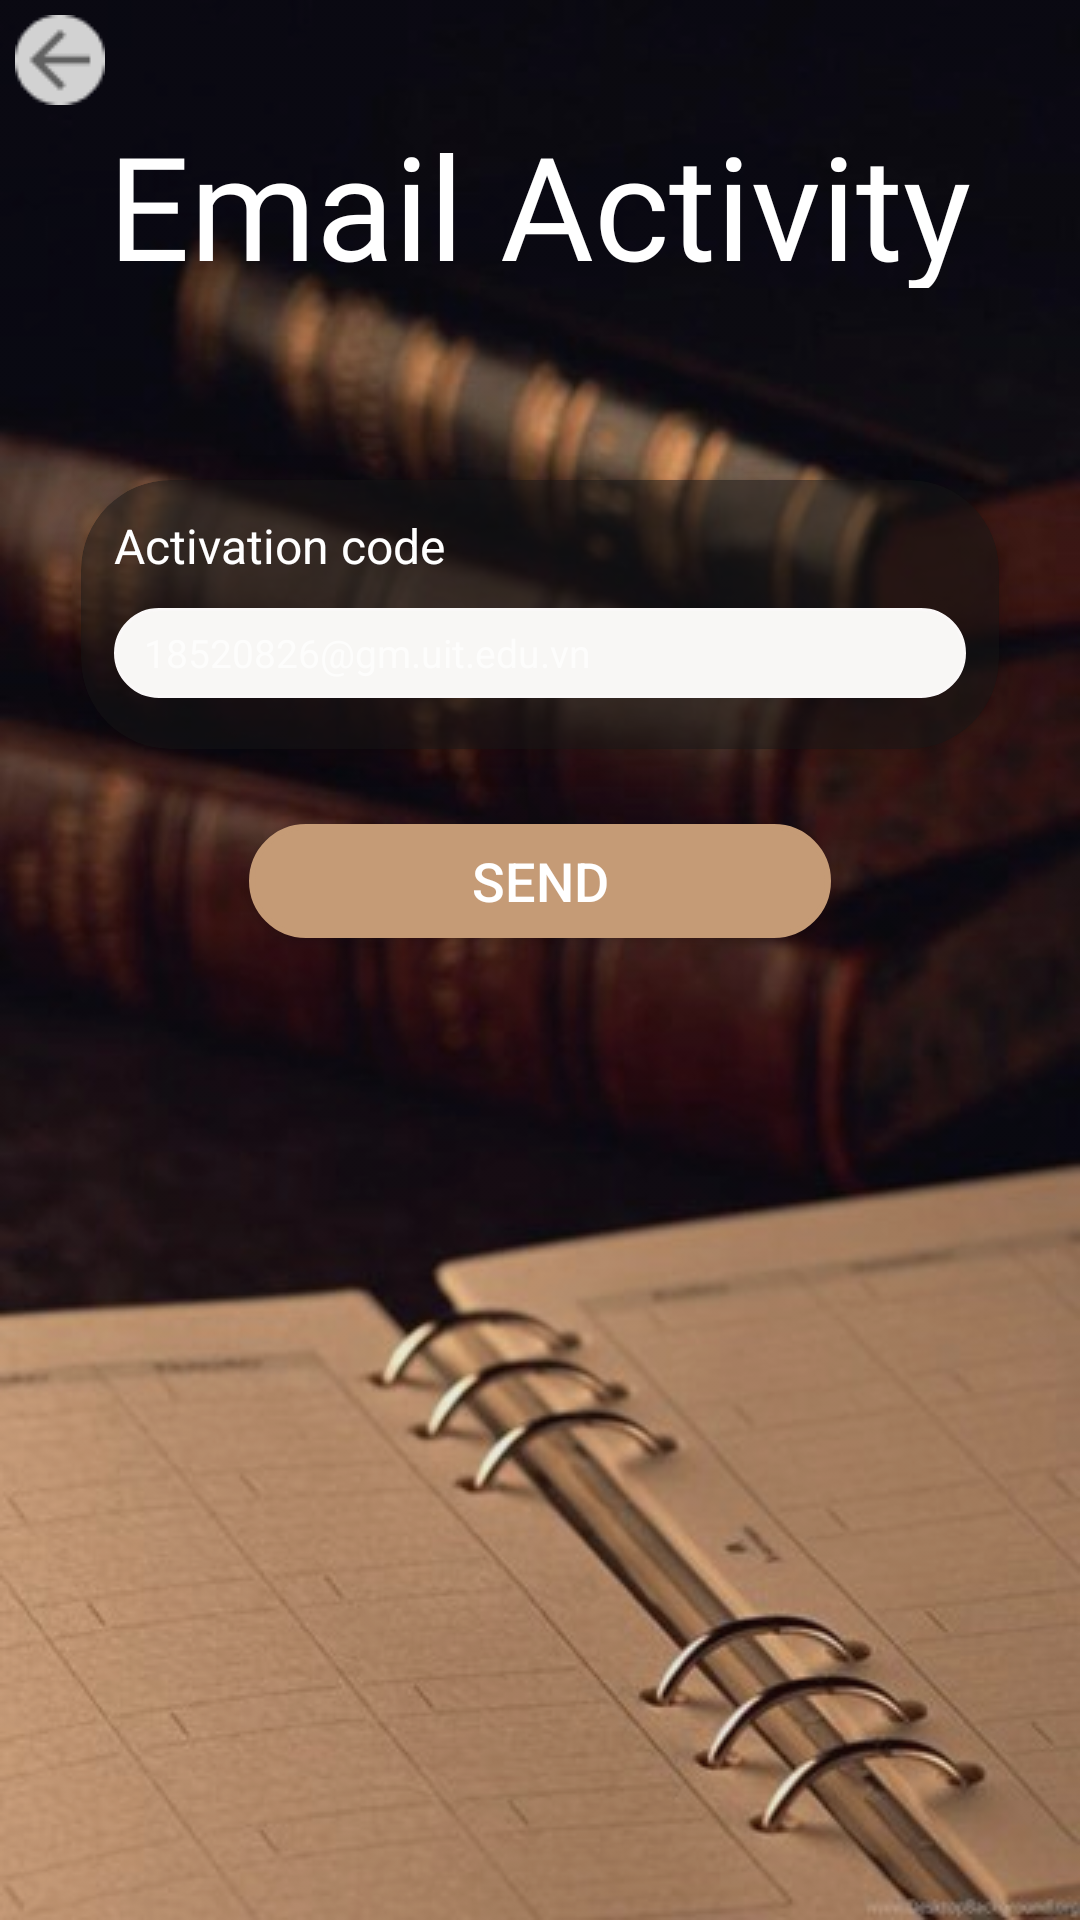

Screen size 1080*1920. Icon name, then its center in pixels as [x,y]:
back: [60,60]
